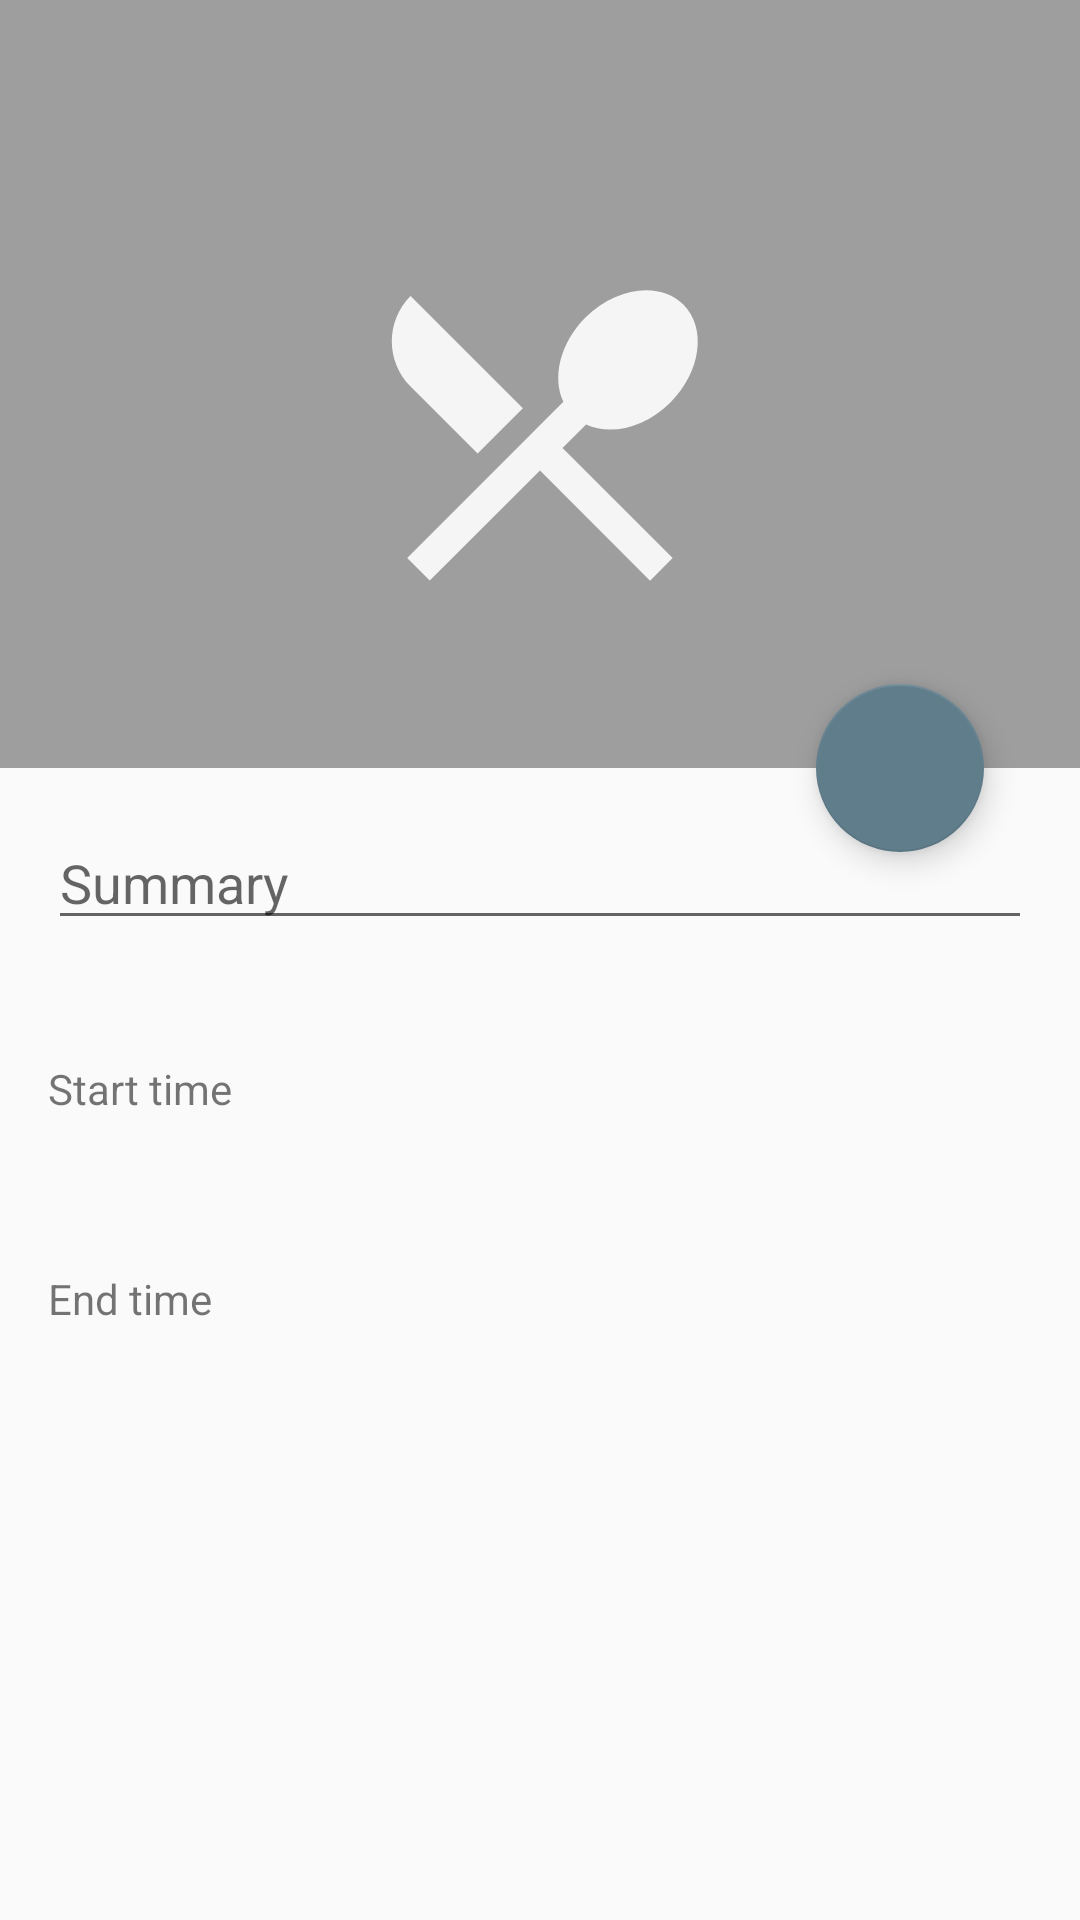

Point at icon controls on the screen. Image size 1080 x 1920, points as [x,y].
category eating: [545,435]
